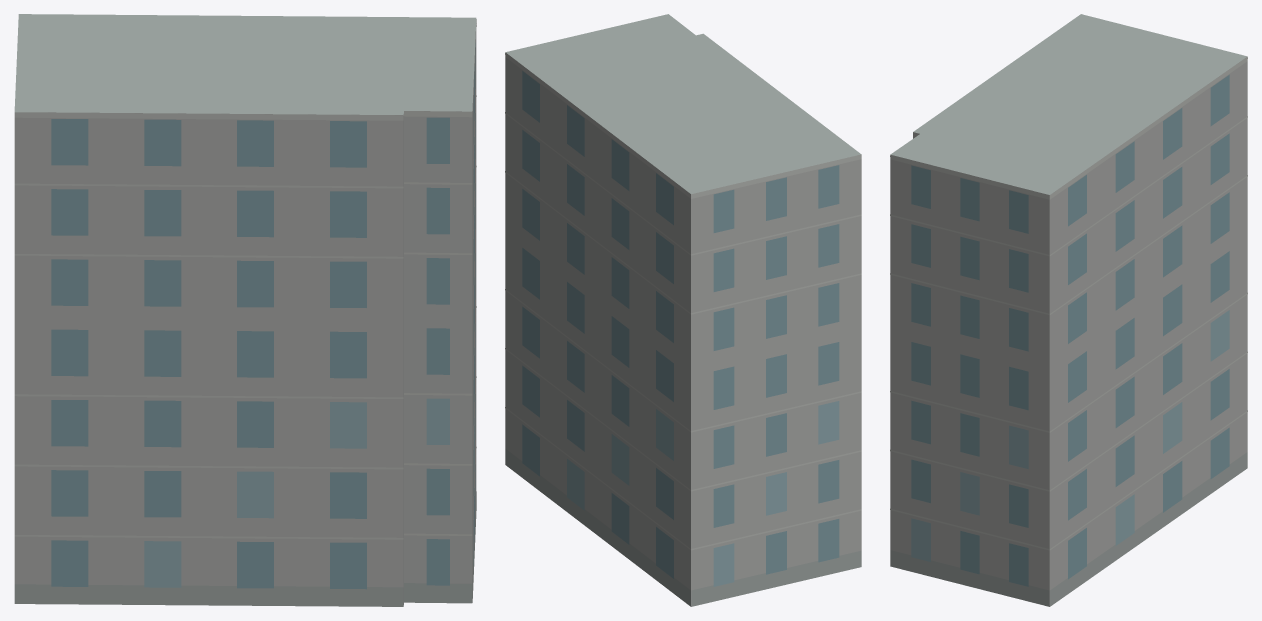
Rendered from survey-upis-32767360.glb.
The picture shows the model from 3 angles, left to right: view 1: azimuth 30°, elevation 25°; view 2: azimuth 150°, elevation 25°; view 3: azimuth 270°, elevation 25°; orthographic projection. The views are drawn at different scales.
Parts seen in each view (by area): view 1: survey-upis-32767360.tmp; view 2: survey-upis-32767360.tmp; view 3: survey-upis-32767360.tmp.
Part boxes in pixels (x1,y1,x2,y2): survey-upis-32767360.tmp: [14, 14, 476, 606]; survey-upis-32767360.tmp: [505, 14, 861, 606]; survey-upis-32767360.tmp: [890, 14, 1247, 606].
Size of the model in its own units: 20.16 by 21.35 by 16.82.
